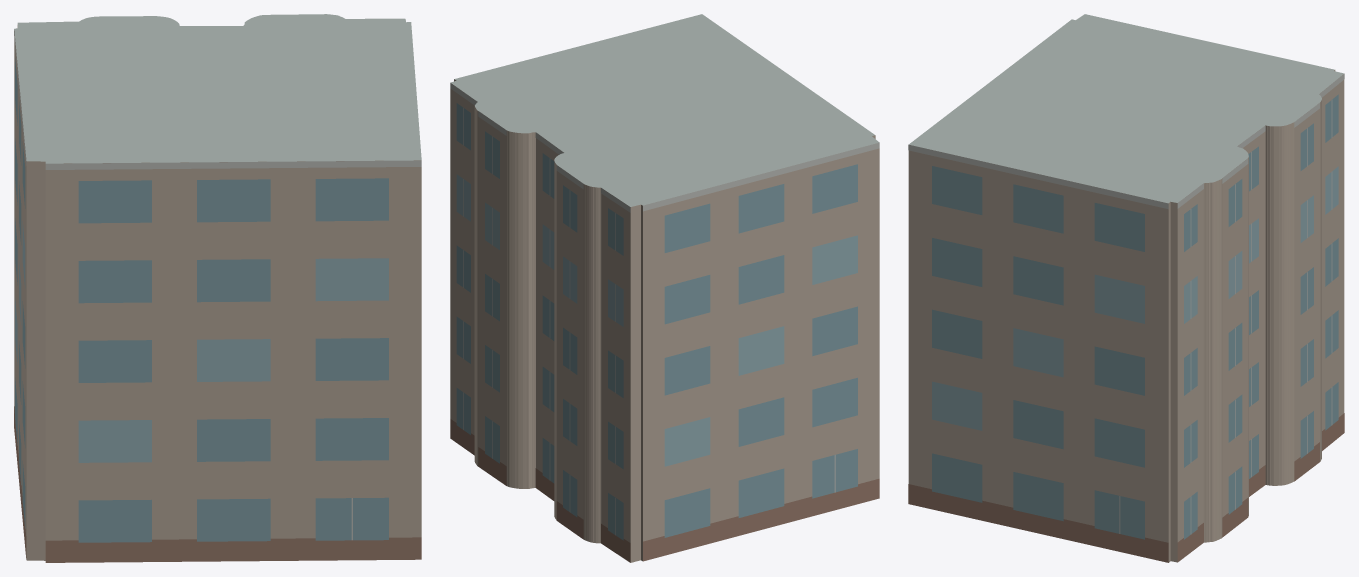
Rendered from survey-upis-32919001.glb.
The picture shows the model from 3 angles, left to right: view 1: azimuth 30°, elevation 25°; view 2: azimuth 150°, elevation 25°; view 3: azimuth 270°, elevation 25°; orthographic projection. The views are drawn at different scales.
Visible parts, largest first — view 1: survey-upis-32919001.tmp; view 2: survey-upis-32919001.tmp; view 3: survey-upis-32919001.tmp.
Boxes of the visible parts, left/top/right/bottom form: survey-upis-32919001.tmp: left=14, top=14, right=421, bottom=562; survey-upis-32919001.tmp: left=450, top=14, right=879, bottom=562; survey-upis-32919001.tmp: left=908, top=14, right=1344, bottom=562.
Bounding box in the file's own units: 17.06 × 15.08 × 16.58.
